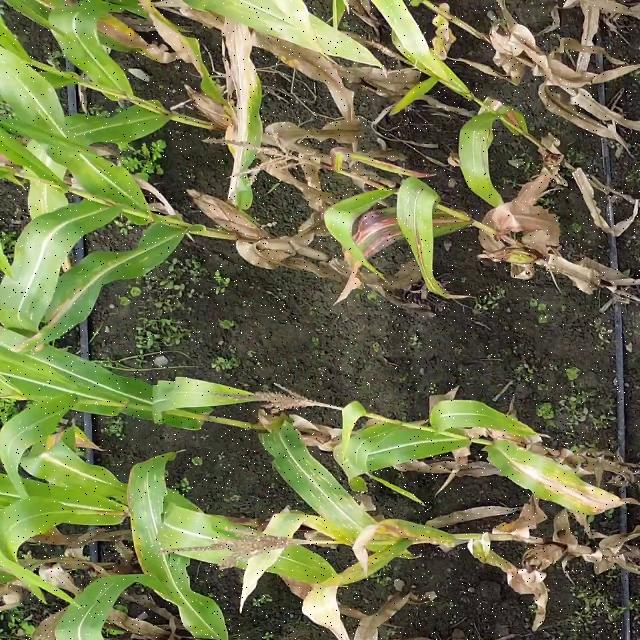gray-leaf-spot: (260, 432, 389, 550), (46, 236, 186, 304), (124, 473, 205, 588), (33, 117, 111, 205)
northern-leaf-blight: (488, 440, 640, 513), (216, 46, 278, 210), (353, 518, 472, 562)
